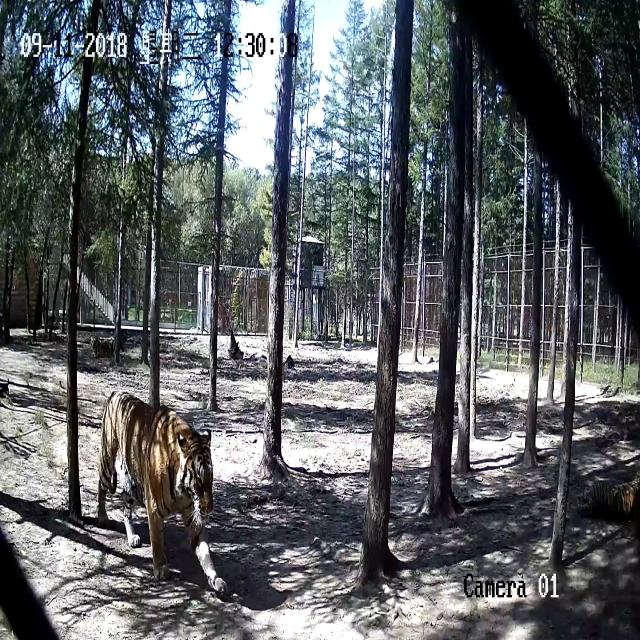Tiger: (90, 382, 233, 594)
